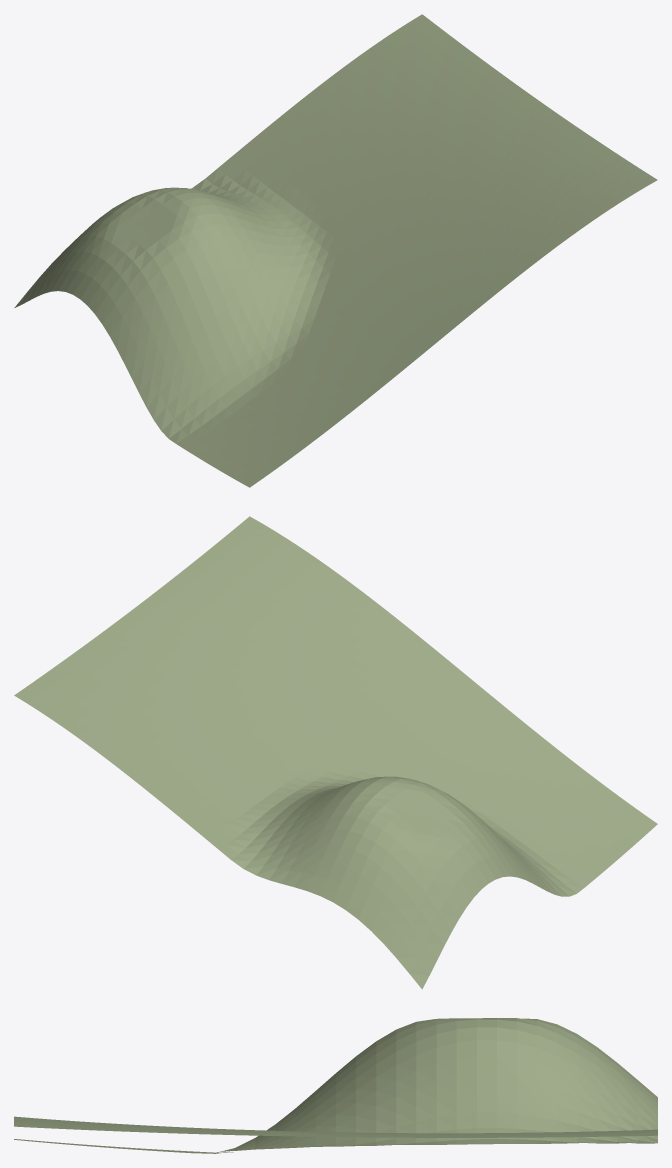
The model's file is expanse-28-25.glb.
3 views of the same model, one above another, from view 1: azimuth 30°, elevation 25°; view 2: azimuth 150°, elevation 25°; view 3: azimuth 270°, elevation 25° (orthographic). The views are drawn at different scales.
Parts seen in each view (by area): view 1: expanse-28-25; view 2: expanse-28-25; view 3: expanse-28-25.
Part boxes in pixels (x1=…): expanse-28-25: x1=14, y1=14, x2=657, y2=487; expanse-28-25: x1=14, y1=516, x2=657, y2=989; expanse-28-25: x1=14, y1=1018, x2=657, y2=1153.
Bounding box in the file's own units: 256 × 131 × 256.
